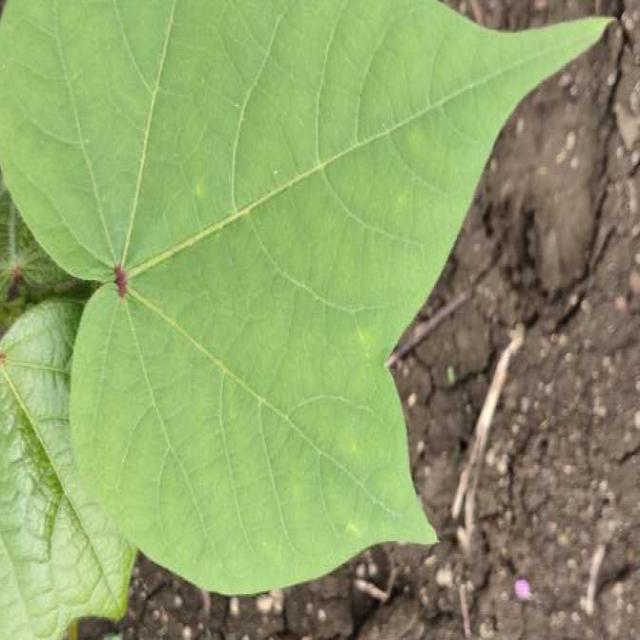Healthy Leaf: (0, 5, 559, 640)
